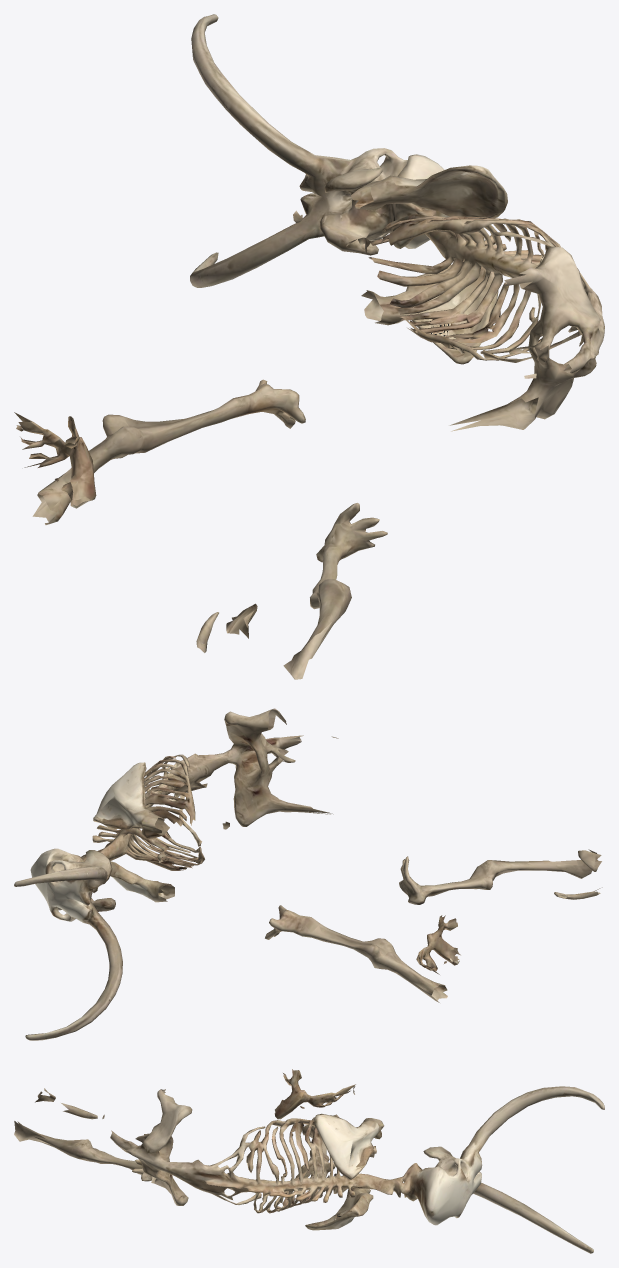
Rendered from mammoth_fossil_b.glb.
3 renders of one model, top to bottom at view 1: azimuth 30°, elevation 25°; view 2: azimuth 150°, elevation 25°; view 3: azimuth 270°, elevation 25°, orthographic. The views are drawn at different scales.
Parts seen in each view (by area): view 1: SM_animal_skeleton_01.002; view 2: SM_animal_skeleton_01.002; view 3: SM_animal_skeleton_01.002.
Boxes of the visible parts, box(x1,y1,x2,y2) form: SM_animal_skeleton_01.002: box(14, 14, 604, 679); SM_animal_skeleton_01.002: box(14, 708, 602, 1040); SM_animal_skeleton_01.002: box(14, 1069, 604, 1253).
Size of the model in its own units: 4.72 by 2.07 by 6.85.
Materials: 1 (1 with a texture image).
